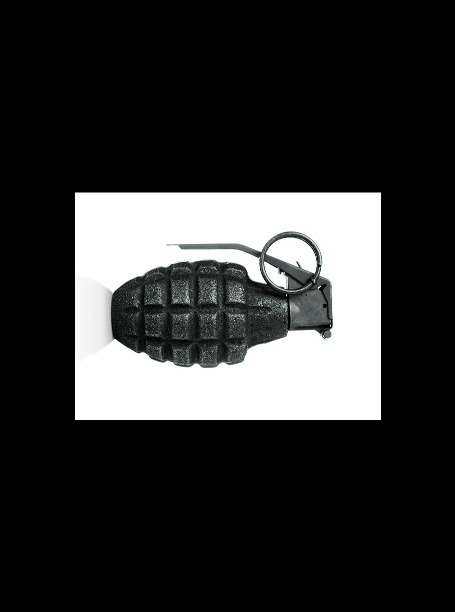e1: (110, 232, 338, 373)
